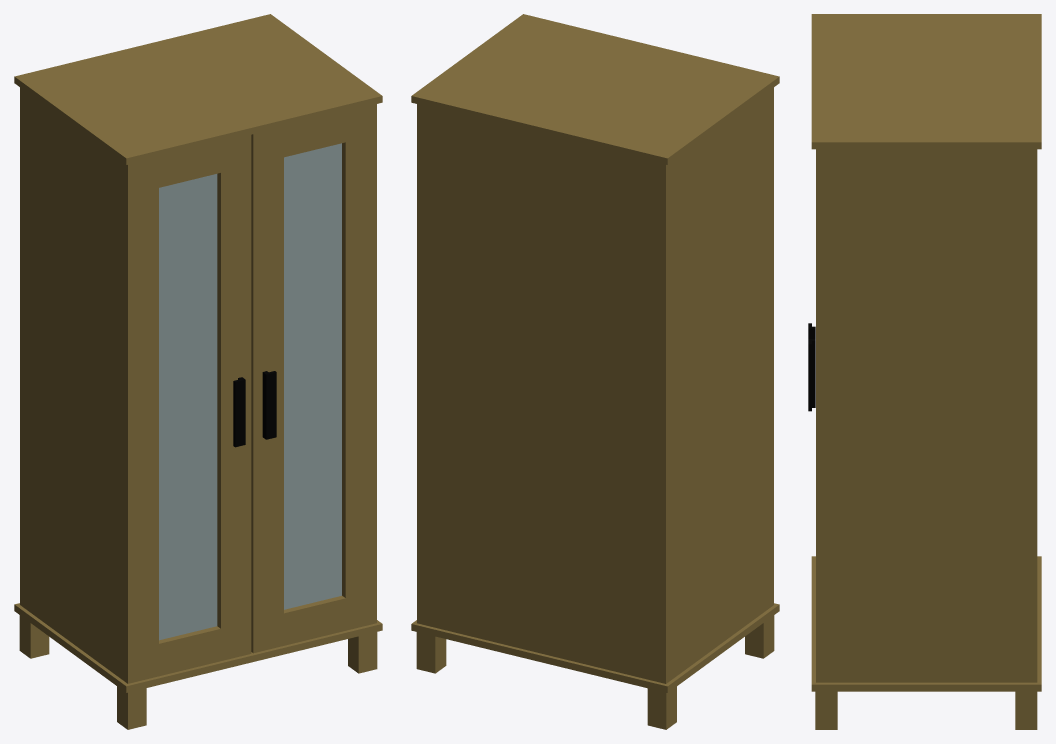
Rendered from props_-_aneboda_wardrobe.glb.
3 renders of one model, left to right at view 1: azimuth 30°, elevation 25°; view 2: azimuth 150°, elevation 25°; view 3: azimuth 270°, elevation 25°, orthographic. The views are drawn at different scales.
Visible parts, largest first — view 1: Object_2; view 2: Object_2; view 3: Object_2.
Part boxes in pixels (bbox=[...]): Object_2: bbox=[14, 14, 382, 729]; Object_2: bbox=[411, 14, 779, 729]; Object_2: bbox=[808, 14, 1041, 729].
Bounding box in the file's own units: 0.9193 × 1.97 × 0.7052.
1 material, 1 textured.
